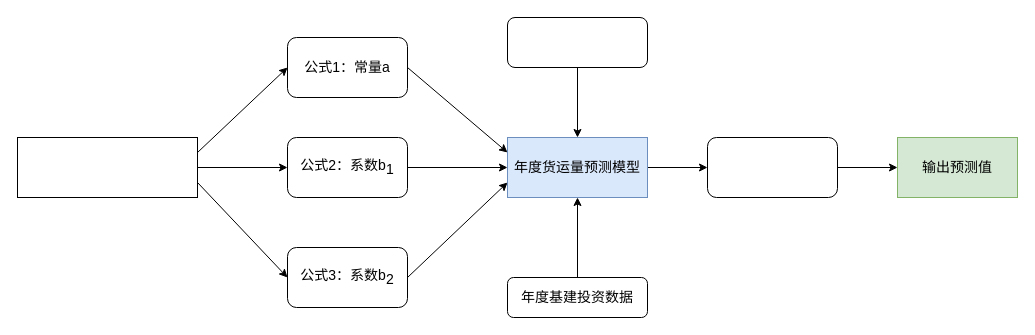
The diagram is 1035 pixels wide and 335 high, and some of its shapes have lost their labels. Each missing label, with the centre of its shape:
"年度工业总产值数据" belongs at [577,42].
"年度货运量预测值" belongs at [772,167].
"问题1：根据数据得到模型" belongs at [107,167].
